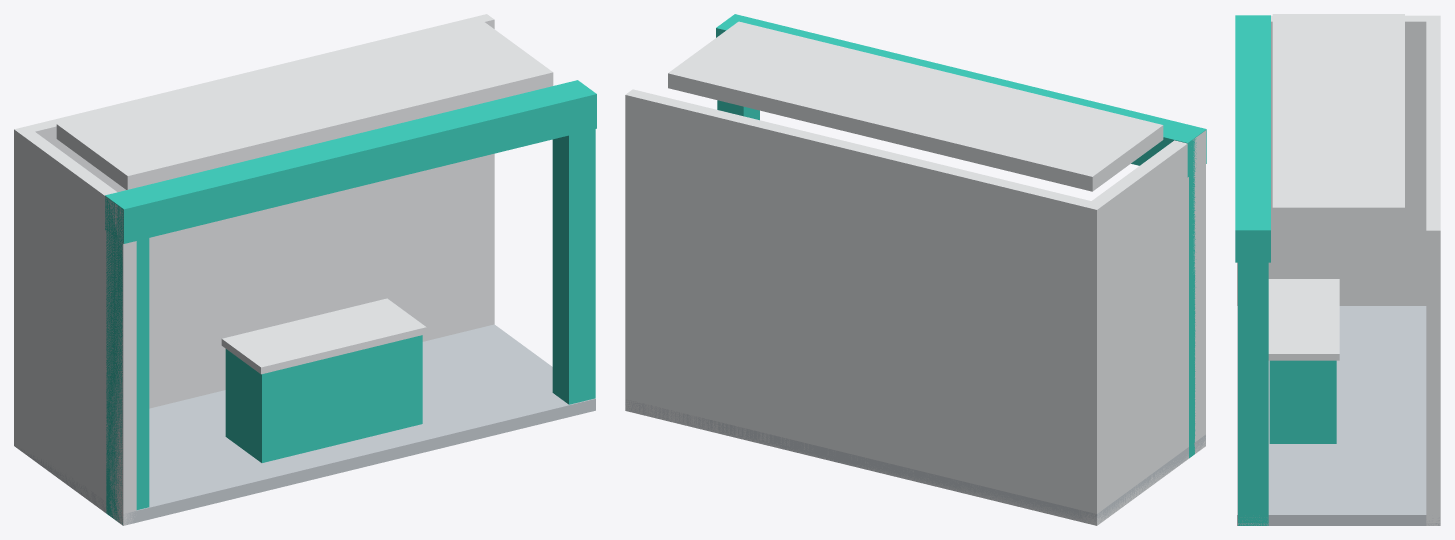
3 views of the same model, side by side, from view 1: azimuth 30°, elevation 25°; view 2: azimuth 150°, elevation 25°; view 3: azimuth 270°, elevation 25° (orthographic). The views are drawn at different scales.
Visible parts, largest first — view 1: Exhibition Booth Concept; view 2: Exhibition Booth Concept; view 3: Exhibition Booth Concept.
Boxes of the visible parts, x1,y1,x2,y2 form: Exhibition Booth Concept: (14, 14, 596, 525); Exhibition Booth Concept: (625, 14, 1206, 525); Exhibition Booth Concept: (1235, 14, 1440, 525).
Bounding box in the file's own units: 5 × 3.34 × 2.01.
